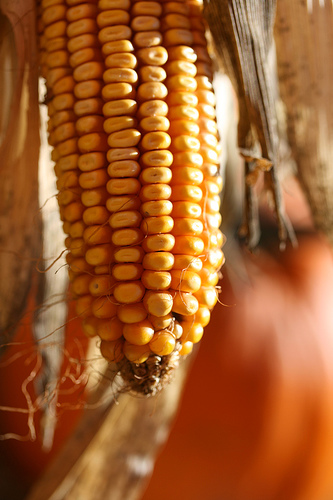corn: (35, 0, 224, 395)
